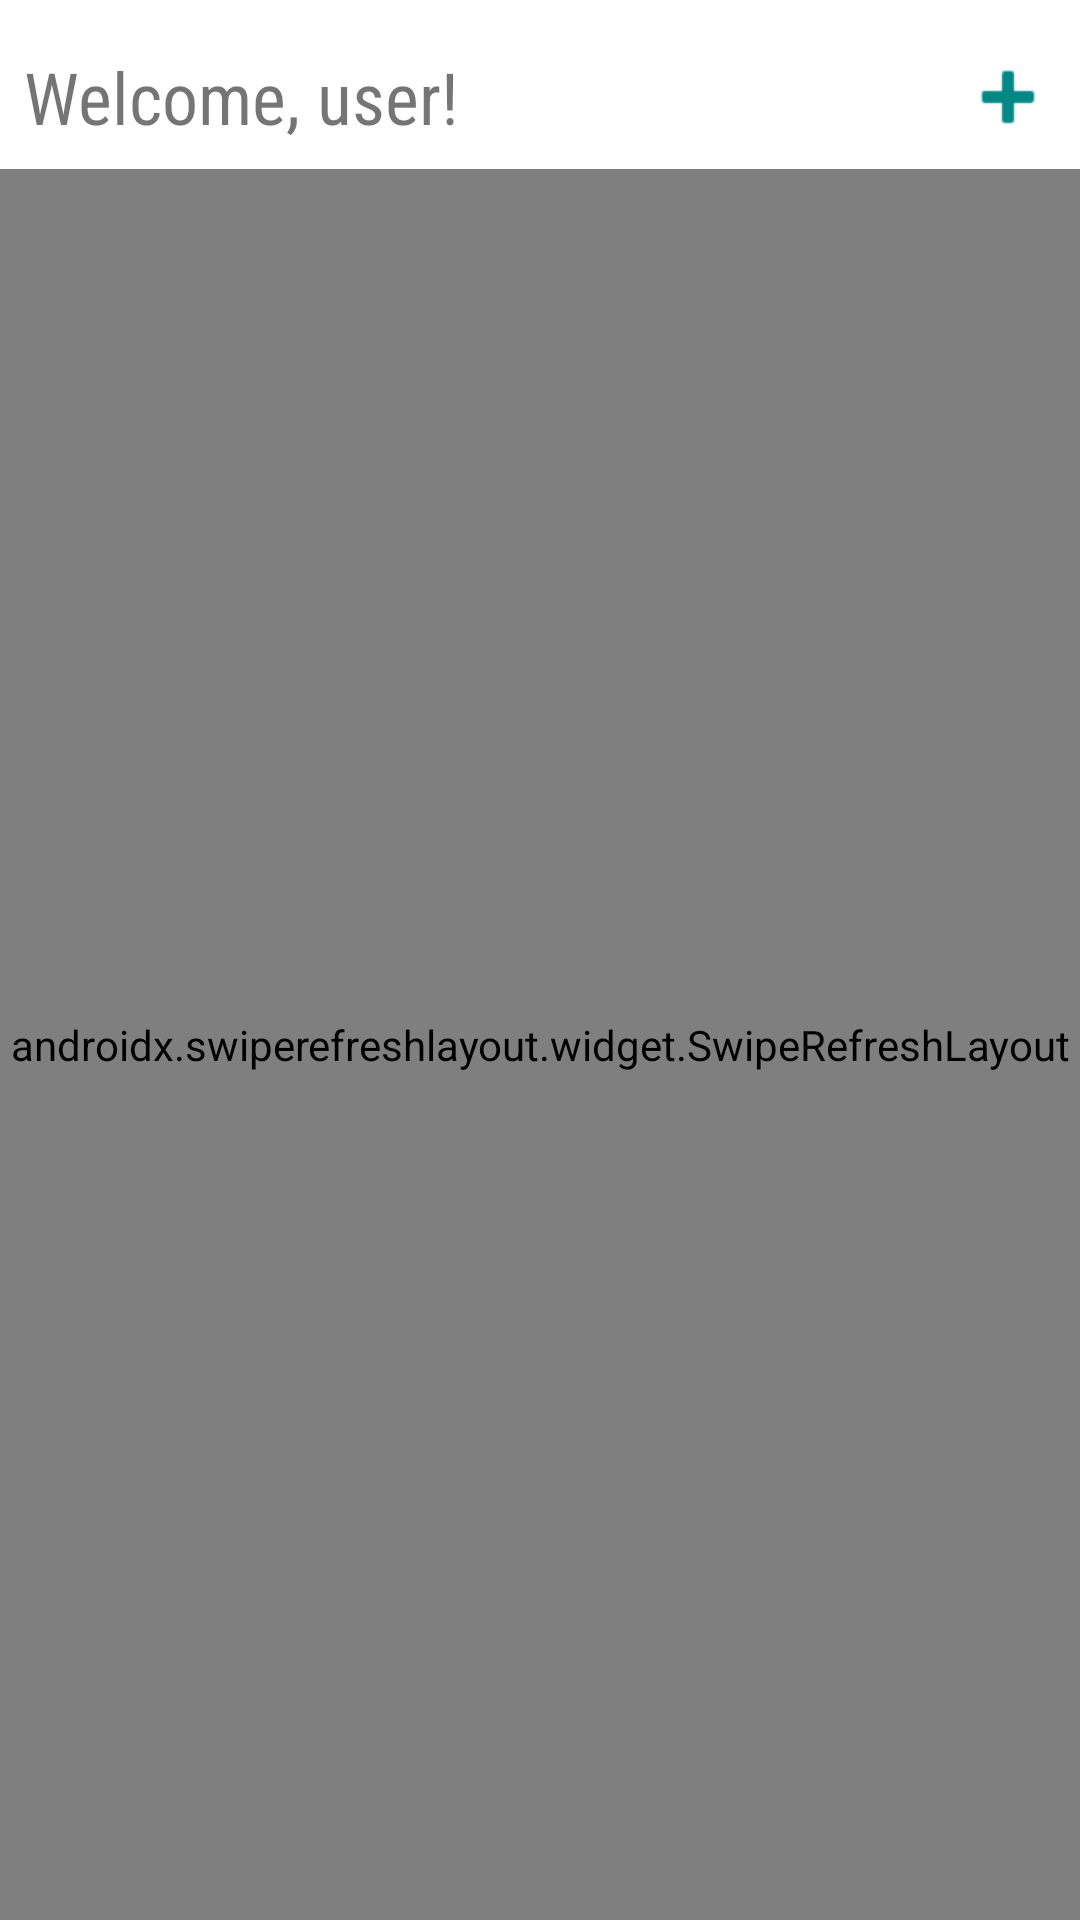

Screen size 1080*1920. Icon name, then its box in pixels as (x1, y1, x2, y2):
add: (981, 70, 1035, 124)
